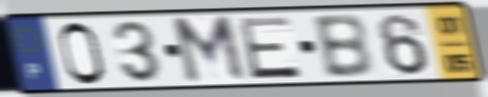0: (56, 20, 108, 87)
3: (112, 18, 161, 84)
6: (375, 12, 431, 77)
B: (309, 12, 377, 80)
E: (235, 14, 305, 82)
M: (168, 13, 250, 87)
